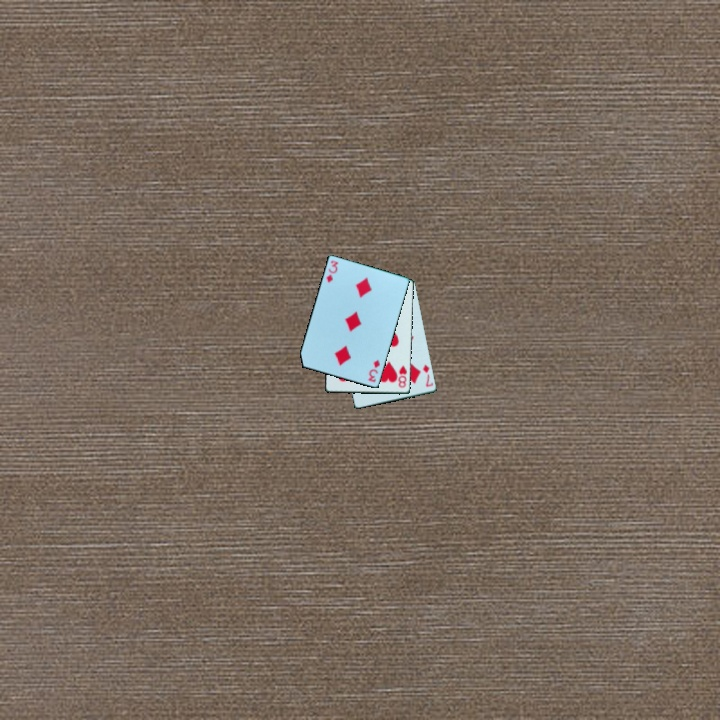3d: (365, 354, 383, 385), (323, 257, 341, 286)
7d: (419, 361, 436, 389)
8h: (395, 362, 410, 390)
